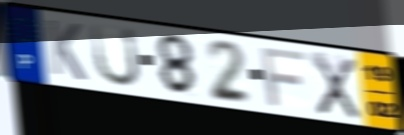2: (204, 39, 253, 106)
8: (155, 32, 198, 97)
F: (259, 45, 309, 109)
K: (44, 17, 89, 84)
U: (89, 21, 143, 89)
X: (310, 49, 361, 122)
